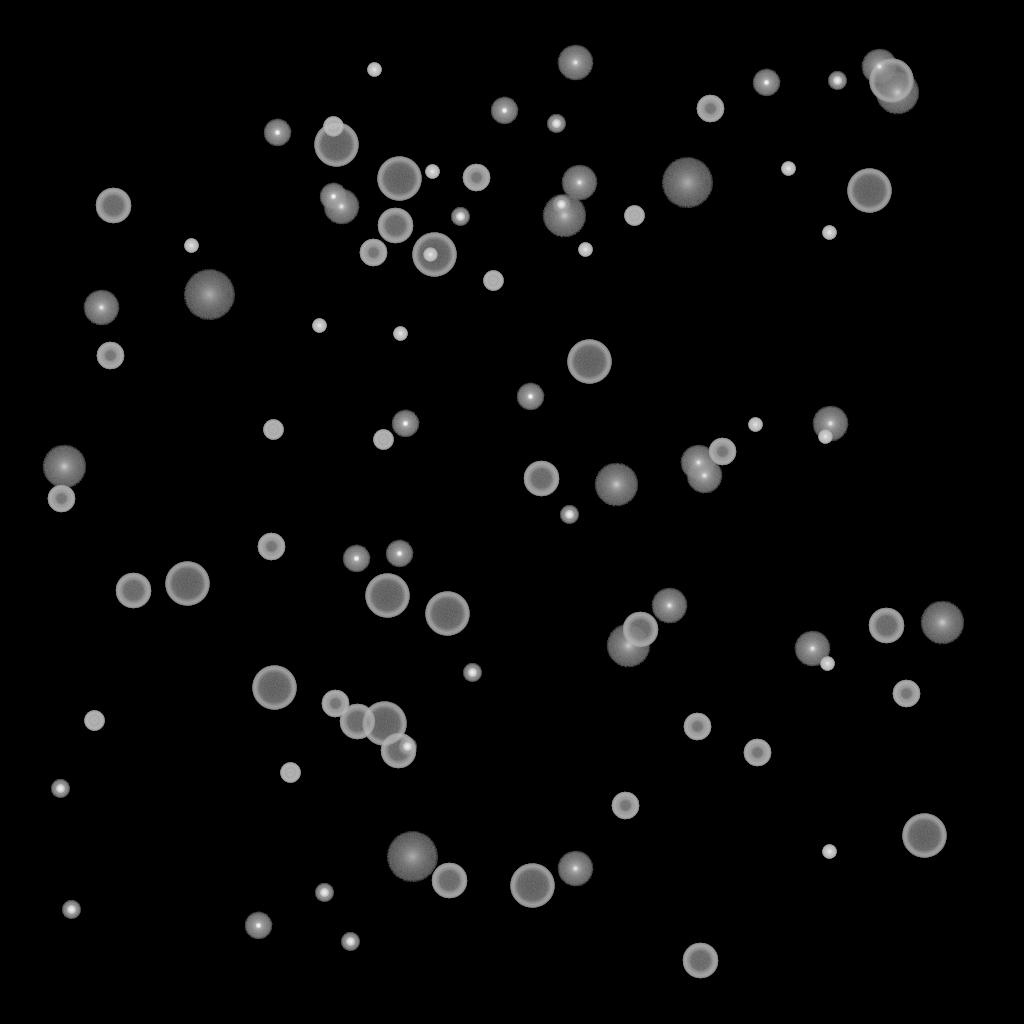depth:-10: (391, 410, 419, 438), (385, 540, 413, 568), (263, 119, 291, 147), (752, 69, 780, 97), (490, 97, 518, 125), (319, 183, 347, 211), (342, 545, 370, 573), (244, 912, 272, 940), (516, 383, 544, 411)
depth:-20: (560, 506, 578, 524), (451, 208, 469, 226), (51, 780, 69, 798), (463, 664, 481, 682), (315, 884, 333, 902), (62, 901, 80, 919), (552, 196, 570, 214), (341, 933, 359, 951), (398, 738, 416, 756), (828, 72, 846, 90), (547, 115, 565, 133)
depth:-30: (748, 418, 762, 432), (818, 430, 832, 444), (423, 248, 437, 262), (184, 239, 198, 253), (822, 226, 836, 240), (367, 63, 381, 77), (781, 162, 795, 176), (393, 327, 407, 341), (425, 165, 439, 179), (312, 319, 326, 333), (578, 243, 592, 257), (822, 845, 836, 859), (820, 657, 834, 671)
depth:-40: (483, 271, 503, 291), (280, 763, 300, 783), (84, 711, 104, 731), (263, 420, 283, 440), (624, 206, 644, 226), (323, 117, 343, 137), (373, 430, 393, 450)
depth:-50: (257, 533, 285, 561), (892, 680, 920, 708), (321, 690, 349, 718), (683, 713, 711, 741), (462, 164, 490, 192), (611, 792, 639, 820), (708, 438, 736, 466), (47, 485, 75, 513), (96, 342, 124, 370), (743, 739, 771, 767), (359, 239, 387, 267), (696, 95, 724, 123)
depth:-60: (868, 608, 904, 644), (431, 863, 467, 899), (622, 612, 658, 648), (523, 461, 559, 497), (339, 704, 375, 740), (115, 573, 151, 609), (377, 208, 413, 244), (380, 733, 416, 769), (95, 188, 131, 224), (682, 943, 718, 979)
depth:-70: (425, 592, 469, 636), (847, 169, 891, 213), (869, 59, 913, 103), (412, 233, 456, 277), (365, 574, 409, 618), (510, 864, 554, 908), (362, 702, 406, 746), (165, 562, 209, 606), (314, 123, 358, 167), (252, 666, 296, 710), (902, 814, 946, 858), (567, 340, 611, 384), (377, 157, 421, 201)
depth:0: (812, 406, 848, 442), (557, 851, 593, 887), (651, 588, 687, 624), (794, 631, 830, 667), (561, 165, 597, 201), (83, 290, 119, 326), (861, 49, 897, 85), (323, 189, 359, 225), (686, 458, 722, 494), (680, 445, 716, 481), (557, 45, 593, 81)
depth:10: (42, 445, 86, 489), (920, 601, 964, 645), (875, 71, 919, 115), (606, 624, 650, 668), (594, 463, 638, 507), (542, 194, 586, 238)
depth:20: (661, 158, 713, 208), (183, 270, 235, 320), (386, 832, 438, 882)
